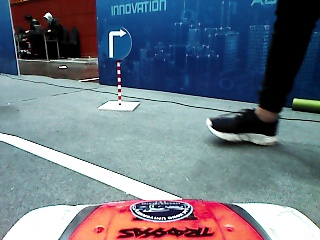turn: (100, 25, 131, 60)
